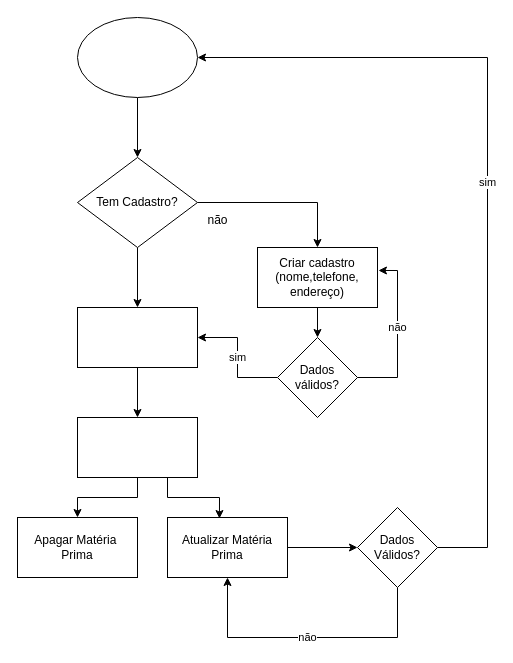
The diagram is 513 pixels wide and 663 high, and some of its shapes have lost their labels. The box of each missing label's shape, as (x1, y1, x2, y2) in pixels:
Buscar Matéria Prima: (76, 416, 198, 478)
Cadastro Matéria Prima: (76, 16, 198, 98)
Listar: (76, 306, 198, 368)
